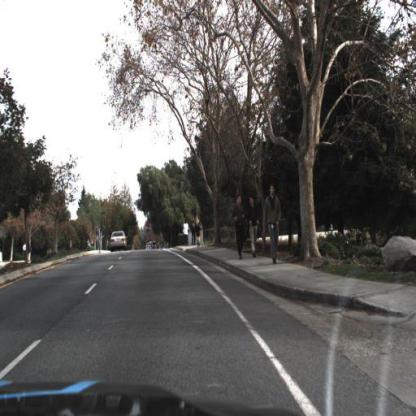car: (108, 230, 130, 253)
pedestrian: (263, 184, 283, 270), (267, 183, 280, 263), (233, 194, 247, 261), (235, 195, 248, 261), (249, 196, 262, 259), (248, 196, 259, 259), (110, 232, 128, 255), (195, 214, 204, 247), (184, 219, 190, 249)
